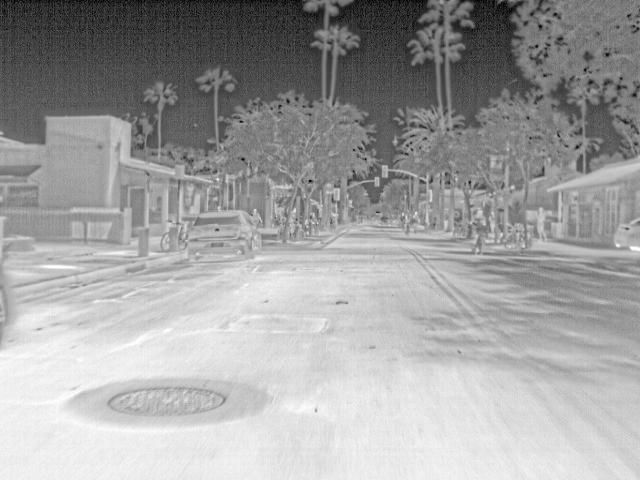car: (185, 208, 262, 264), (612, 218, 640, 252)
person: (536, 206, 548, 242), (288, 207, 301, 236), (472, 206, 487, 229), (410, 210, 420, 234), (251, 207, 264, 225), (489, 209, 497, 234), (400, 211, 407, 224), (406, 214, 411, 232)
